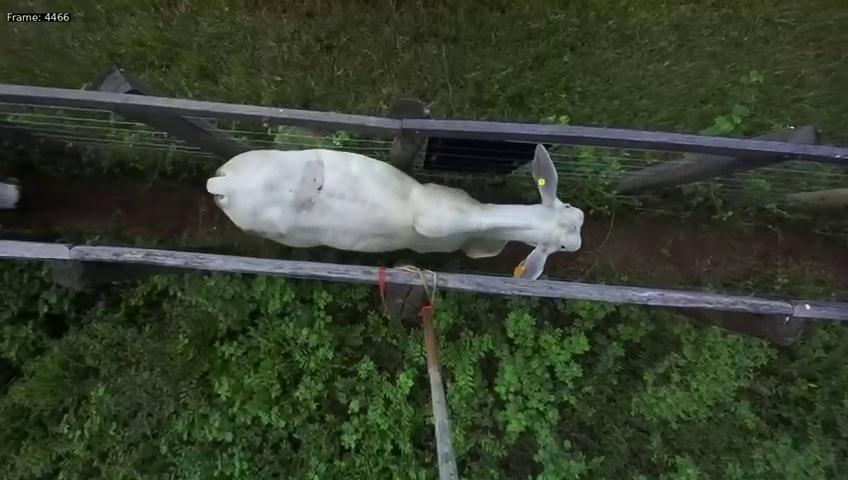cattle: (203, 137, 585, 281)
